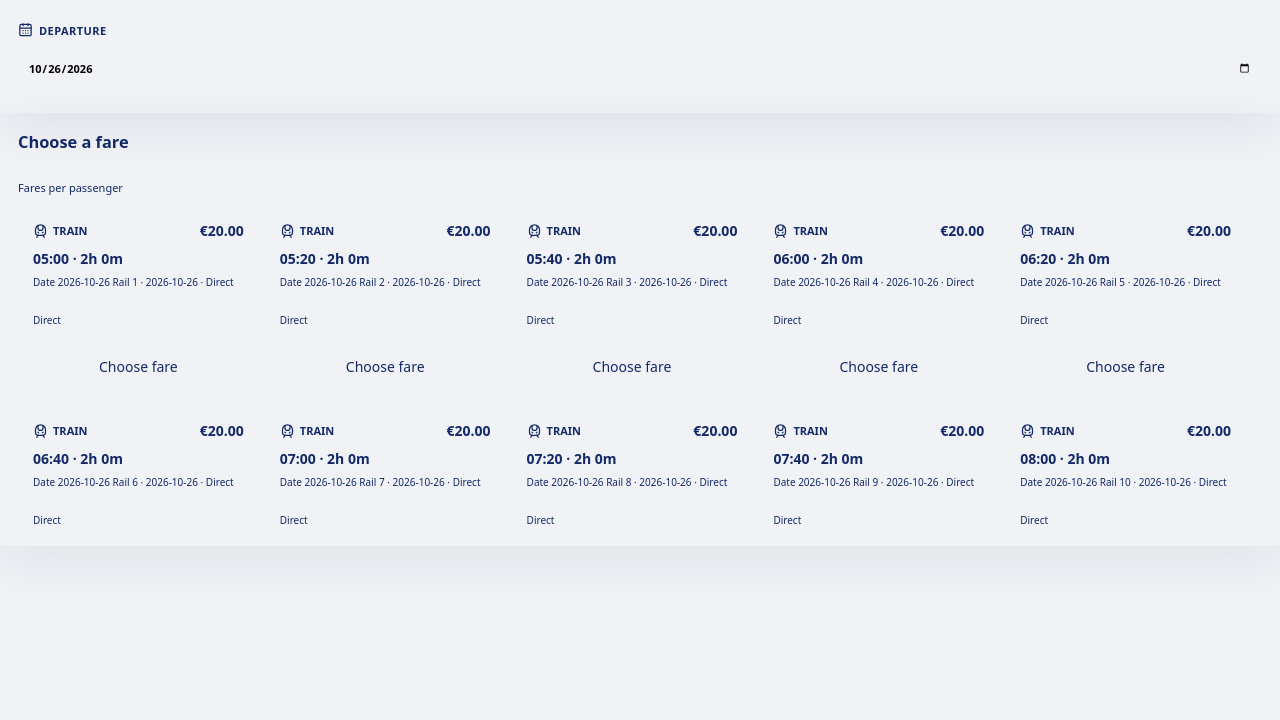
interactive selector pagination › discards accumulated pages and resets the viewport when the trip departure date changes
The width and height of the screenshot is (1280, 720).
(page scrolled)
Type "2026-10-27" into the date field labelled "Departure" at [640, 68], box [18,48,1262,88]
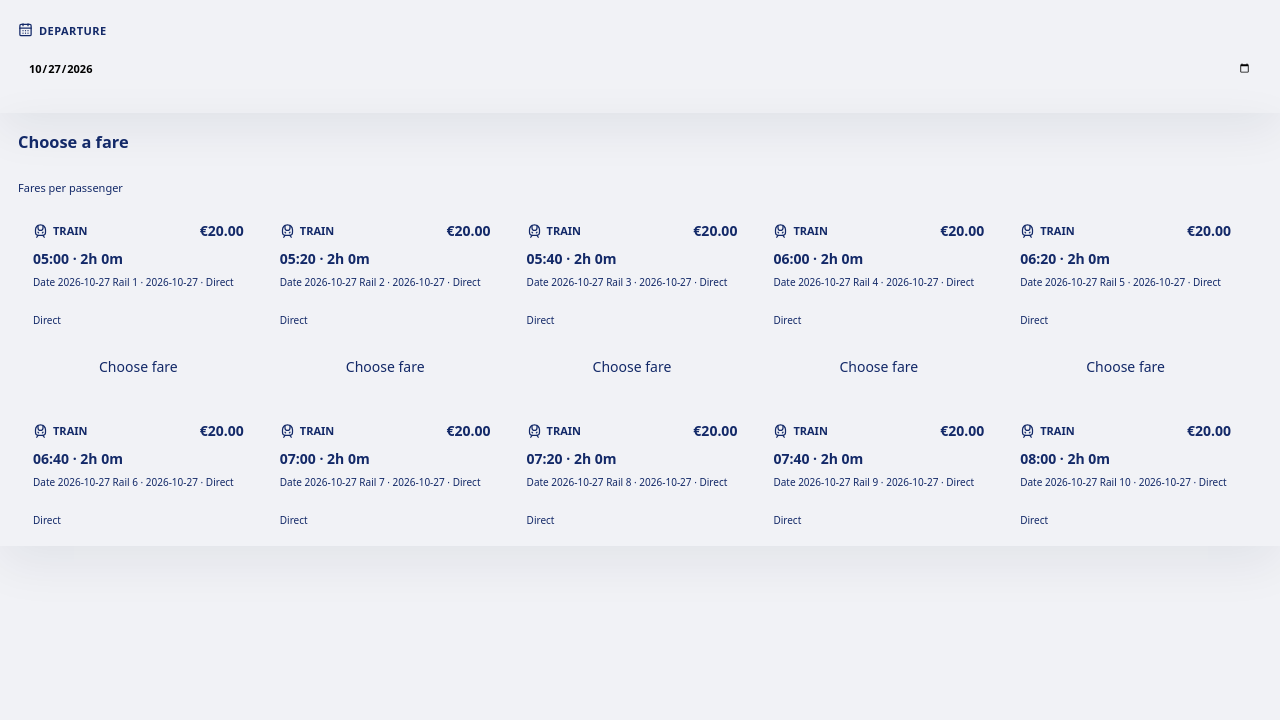
Now the text "2026-10-26" is gone
